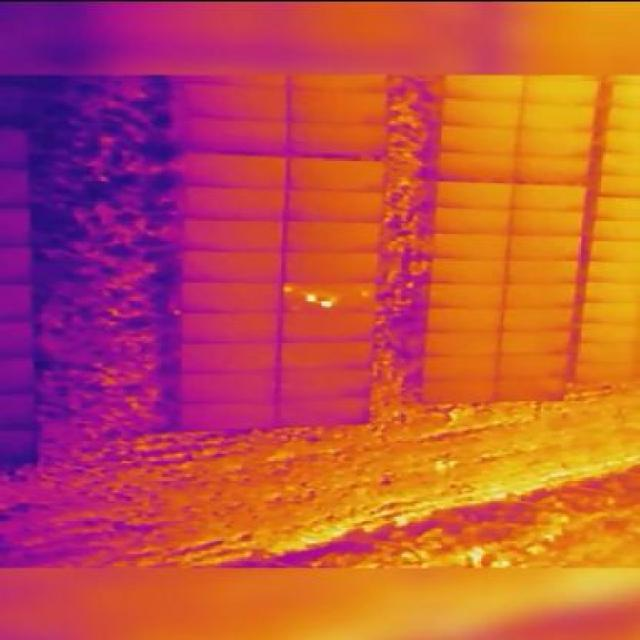hotspot: (307, 290, 319, 302), (320, 298, 335, 307), (285, 283, 297, 291)
